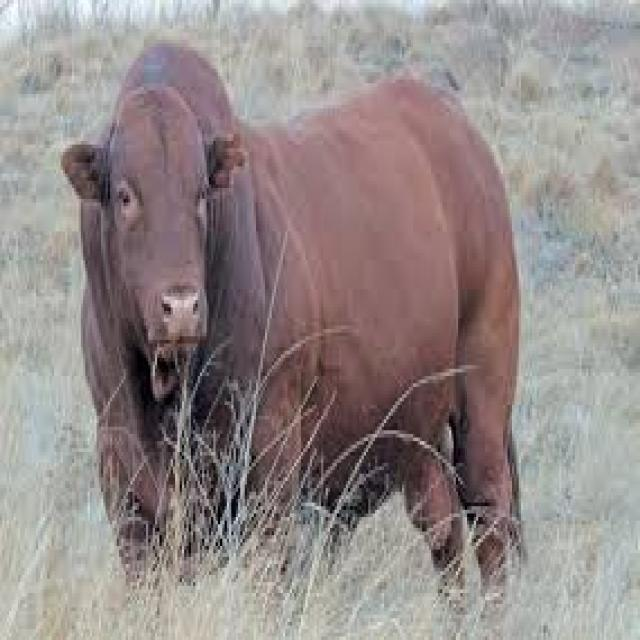cowFace: (52, 43, 265, 420)
